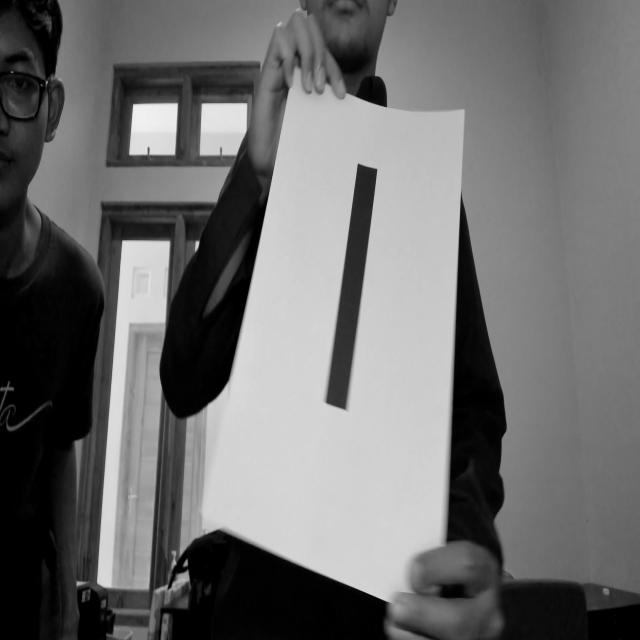i: (309, 126, 406, 502)
